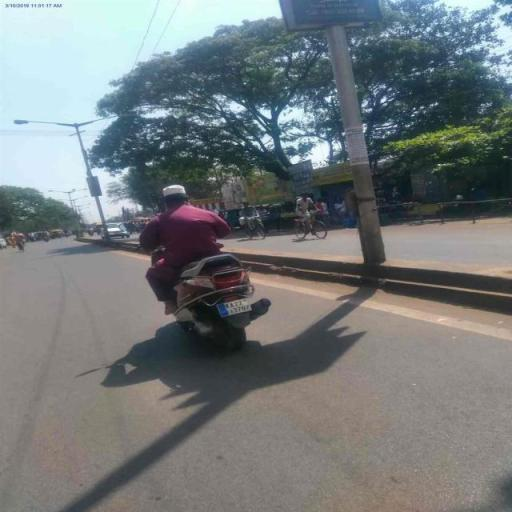bike: (137, 182, 274, 350)
numberplate: (216, 293, 252, 319)
using mobile: (185, 195, 191, 207)
withouthelmet: (162, 186, 184, 210)
